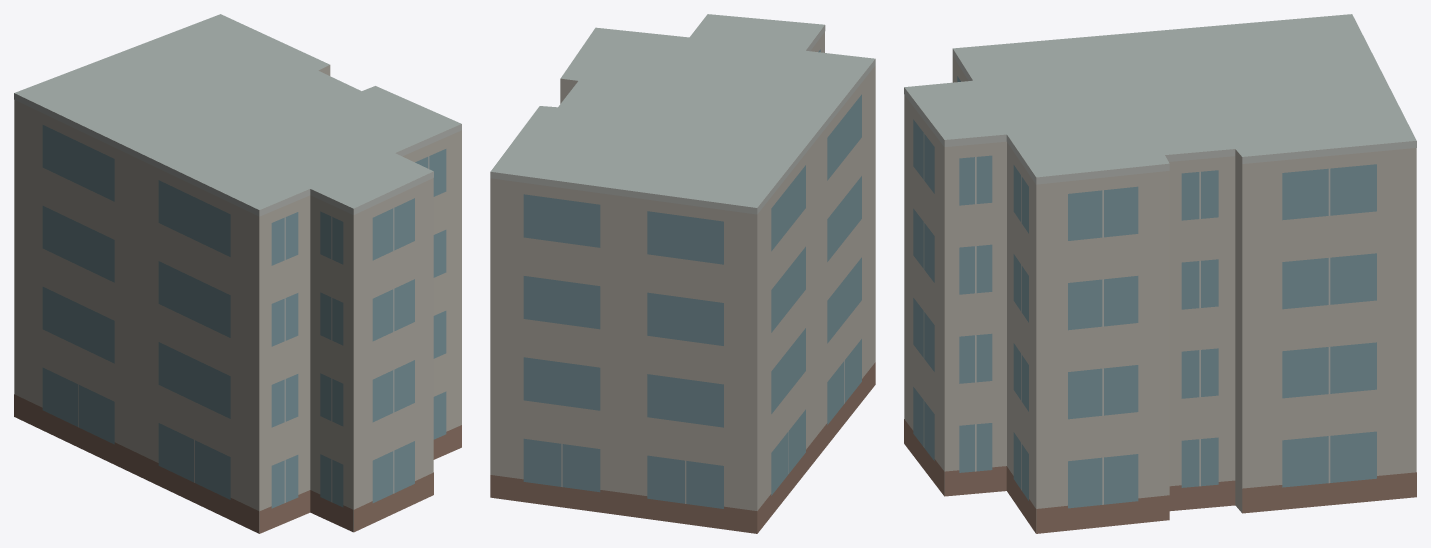
Rendered from survey-upis-33030124.glb.
3 views of the same model, side by side, from view 1: azimuth 30°, elevation 25°; view 2: azimuth 150°, elevation 25°; view 3: azimuth 270°, elevation 25° (orthographic). The views are drawn at different scales.
Visible parts, largest first — view 1: survey-upis-33030124.tmp; view 2: survey-upis-33030124.tmp; view 3: survey-upis-33030124.tmp.
Part boxes in pixels (x1,y1,x2,y2): survey-upis-33030124.tmp: (14, 14, 461, 533); survey-upis-33030124.tmp: (490, 14, 875, 533); survey-upis-33030124.tmp: (904, 14, 1416, 533).
Bounding box in the file's own units: 12.01 × 12.2 × 15.91.
